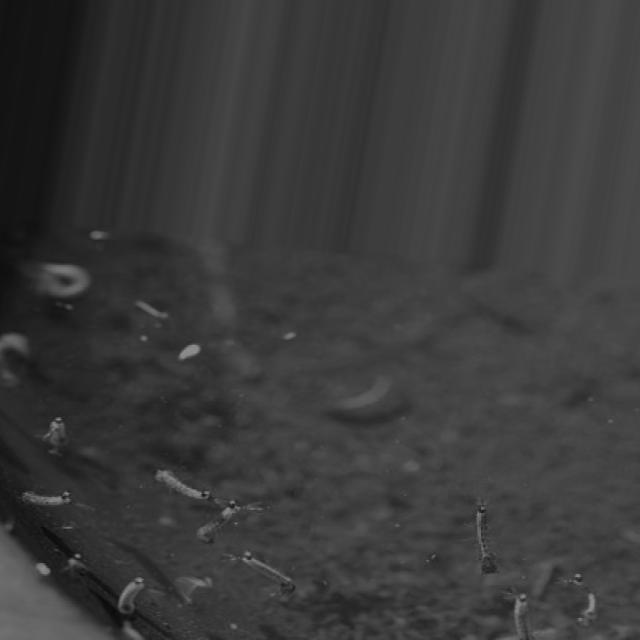larvas: (242, 549, 294, 591), (153, 468, 209, 504), (36, 260, 88, 298), (197, 501, 239, 543), (1, 331, 30, 391), (573, 576, 599, 628), (477, 499, 493, 575), (512, 585, 534, 640), (116, 577, 142, 618), (24, 491, 71, 510), (136, 297, 168, 321), (49, 414, 66, 453)
